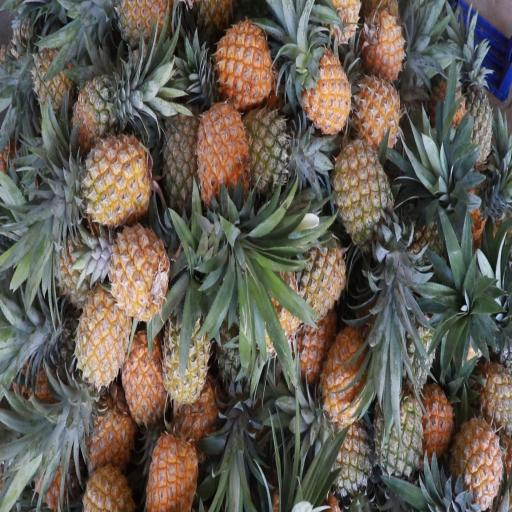------------------------------: (328, 136, 393, 265), (62, 58, 138, 151), (160, 284, 210, 400), (239, 90, 299, 186), (318, 421, 376, 501)
Pineapple - v8 v1: (64, 121, 158, 236), (189, 87, 252, 217), (106, 212, 169, 324), (69, 276, 131, 388), (318, 315, 376, 432), (291, 41, 356, 139), (140, 405, 197, 512), (452, 396, 503, 512), (286, 219, 346, 317), (214, 16, 274, 112), (345, 56, 402, 152), (116, 319, 167, 421), (361, 3, 413, 77)
